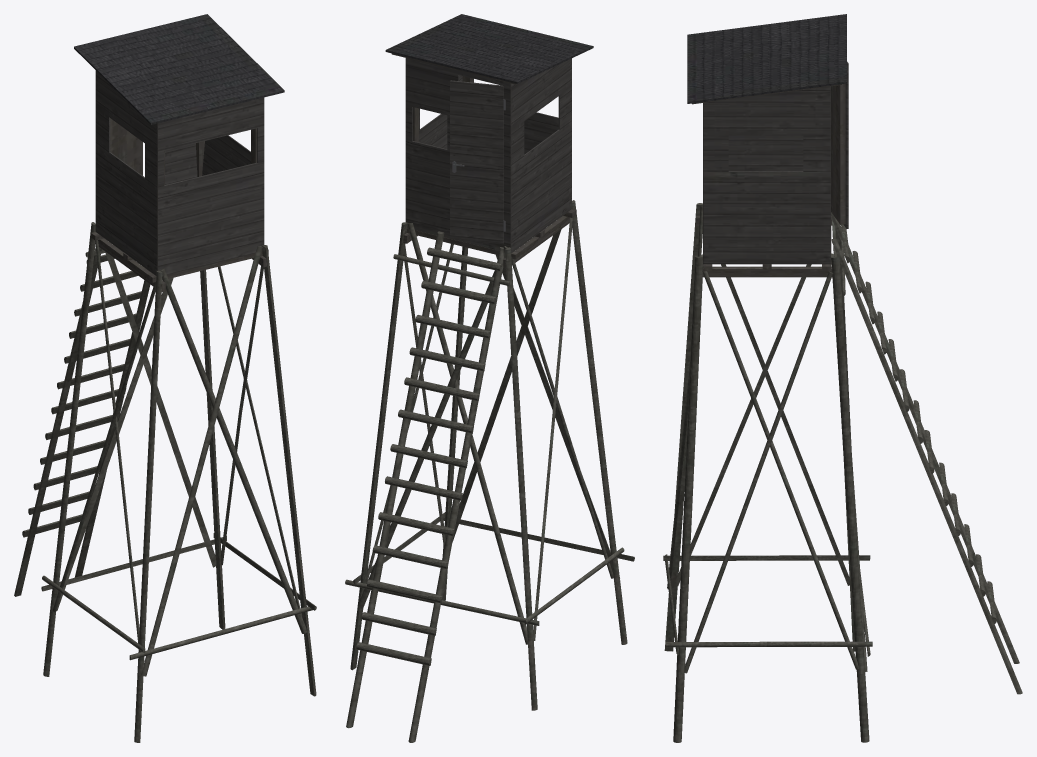
Rendered from hunting-stand.lod1.glb.
The picture shows the model from 3 angles, left to right: view 1: azimuth 30°, elevation 25°; view 2: azimuth 150°, elevation 25°; view 3: azimuth 270°, elevation 25°; orthographic projection. The views are drawn at different scales.
Parts seen in each view (by area): view 1: fertig_Material.002_0; view 2: fertig_Material.002_0; view 3: fertig_Material.002_0.
Boxes of the visible parts, bbox=[...] form: fertig_Material.002_0: bbox=[14, 14, 316, 742]; fertig_Material.002_0: bbox=[345, 14, 634, 742]; fertig_Material.002_0: bbox=[663, 14, 1022, 742].
Size of the model in its own units: 2.54 by 7.83 by 3.94.
Materials: 1 (1 with a texture image).
